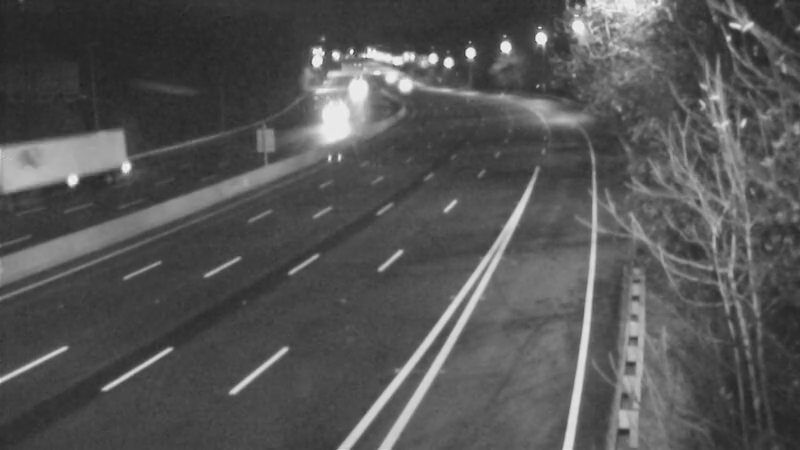vehicle: (7, 150, 87, 230), (374, 57, 424, 107), (364, 50, 414, 100), (299, 90, 349, 140)
